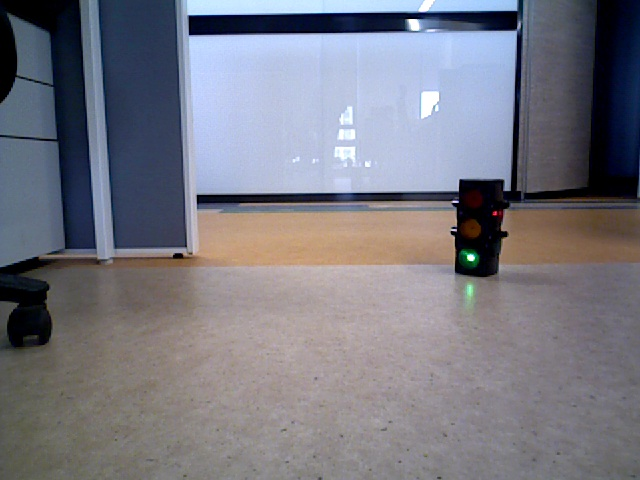green: (456, 178, 497, 269)
